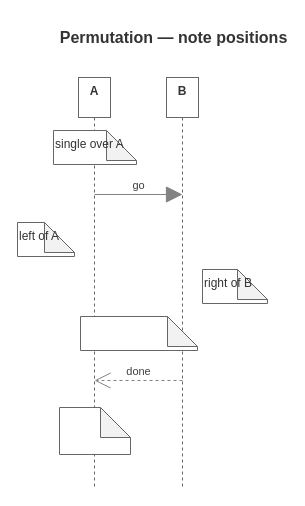
Some shapes in this 305 by 506 pixel diagram are drawn without their labels. The shapes that lost their labels are listed below. From the top down, each one's centre as x and y in pixels, then its label:
At point (139, 333): "over A and B (span)".
At point (94, 430): "multi-line block note".
